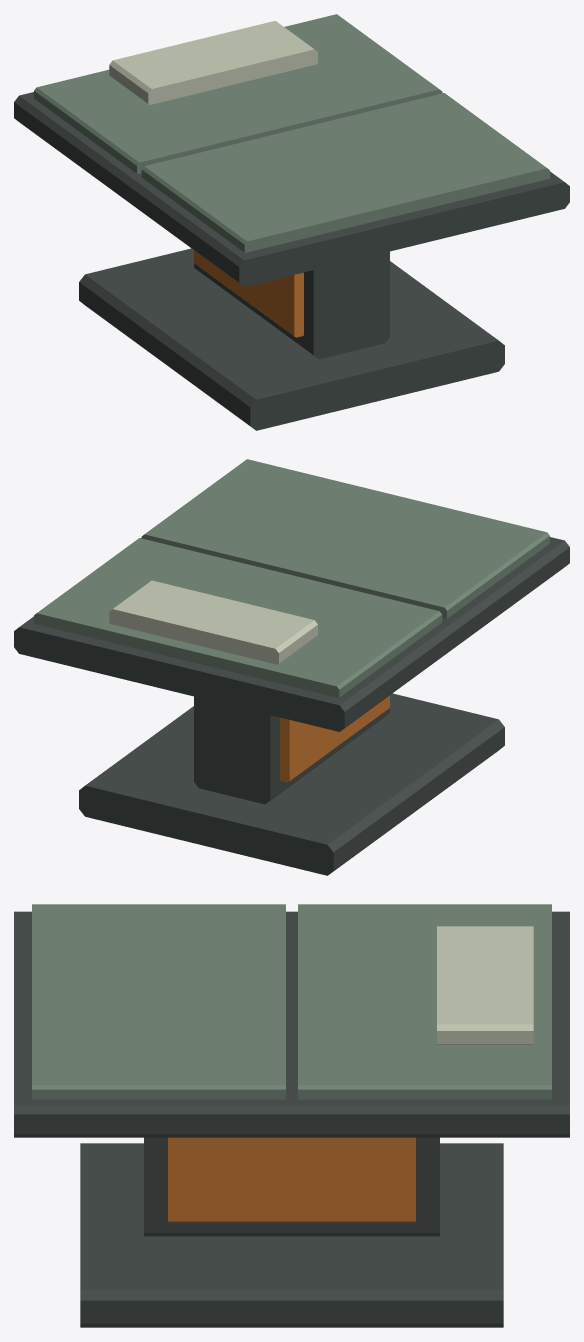
Rendered from OperatingTable.gltf.
The picture shows the model from 3 angles, top to bottom: view 1: azimuth 30°, elevation 25°; view 2: azimuth 150°, elevation 25°; view 3: azimuth 270°, elevation 25°; orthographic projection. The views are drawn at different scales.
Visible parts, largest first — view 1: OperatingTable; view 2: OperatingTable; view 3: OperatingTable.
Part boxes in pixels (box(x1,y1,x2,y2)): OperatingTable: box(14, 14, 569, 430); OperatingTable: box(14, 459, 569, 875); OperatingTable: box(14, 904, 569, 1327).
Bounding box in the file's own units: 0.78 × 0.51 × 0.92.
